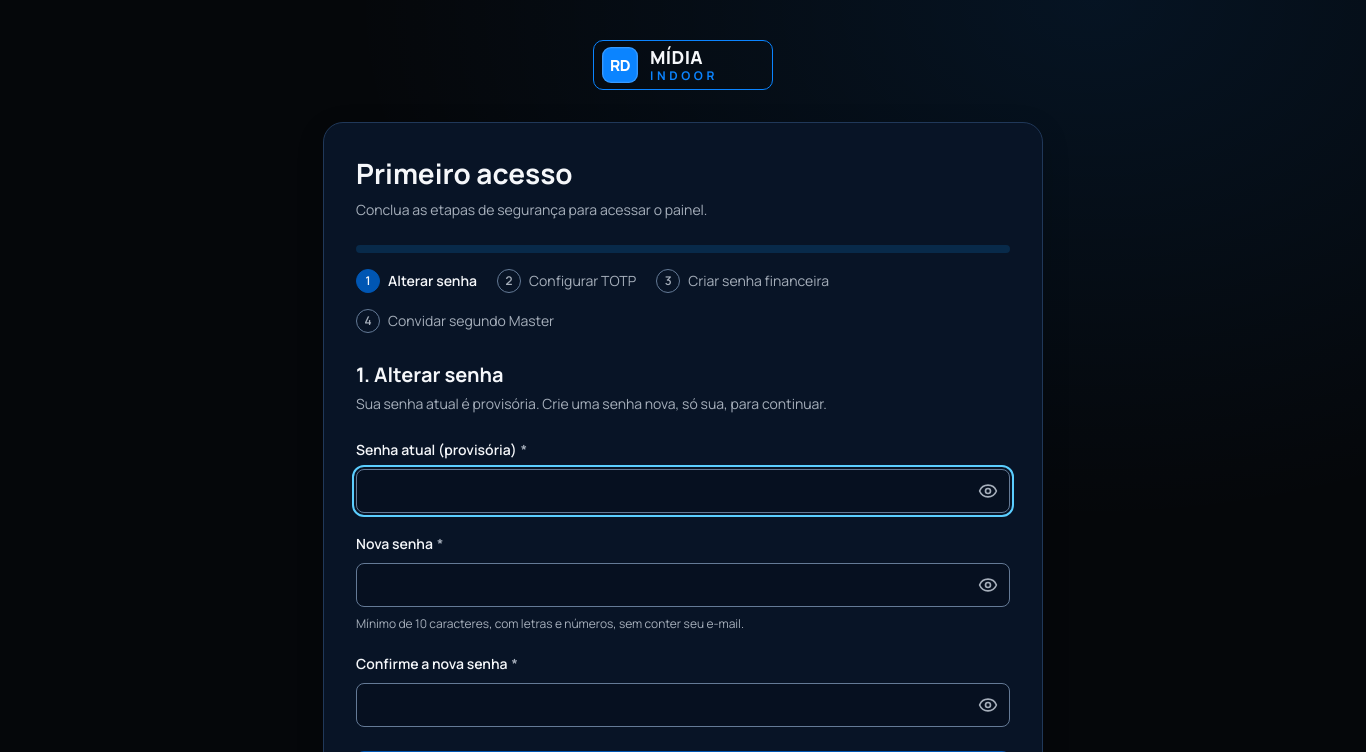
Test case: assistente de primeiro acesso › Master na DUPLA: mostra os 4 passos com progresso; só o passo atual aparece; senha → novo token de setup → TOTP
This screenshot has width=1366, height=752.
Check: the heading "Primeiro acesso" is shown, box [356,154,573,192]
Check: the heading "1. Alterar senha" is shown, box [356,361,504,388]
Type "Provisoria-123" into the password field labelled "Senha atual (provisória)*".
click(683, 491); type("Provisoria-123")  # box [356,469,1010,513]
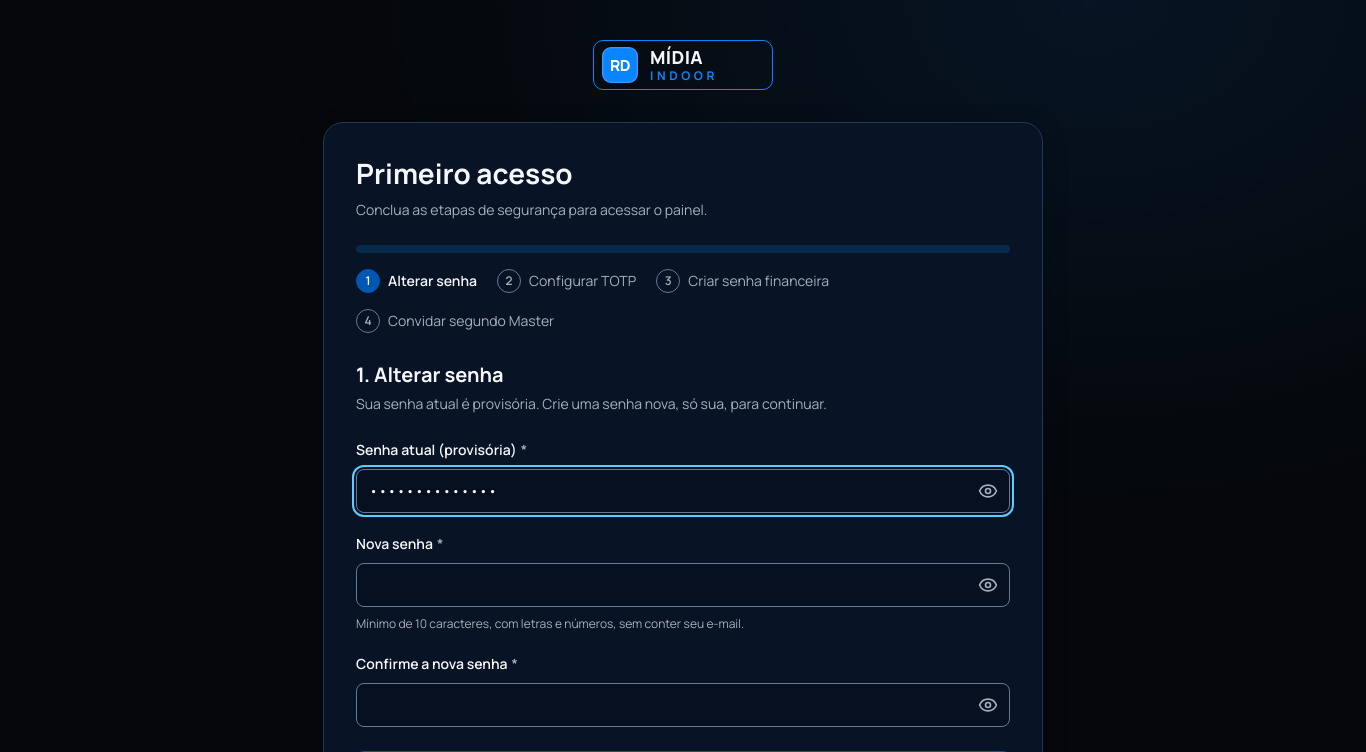
Type "Senha-nova-segura-2026" into the password field labelled "Nova senha*".
click(683, 585); type("Senha-nova-segura-2026")  # box [356,563,1010,607]
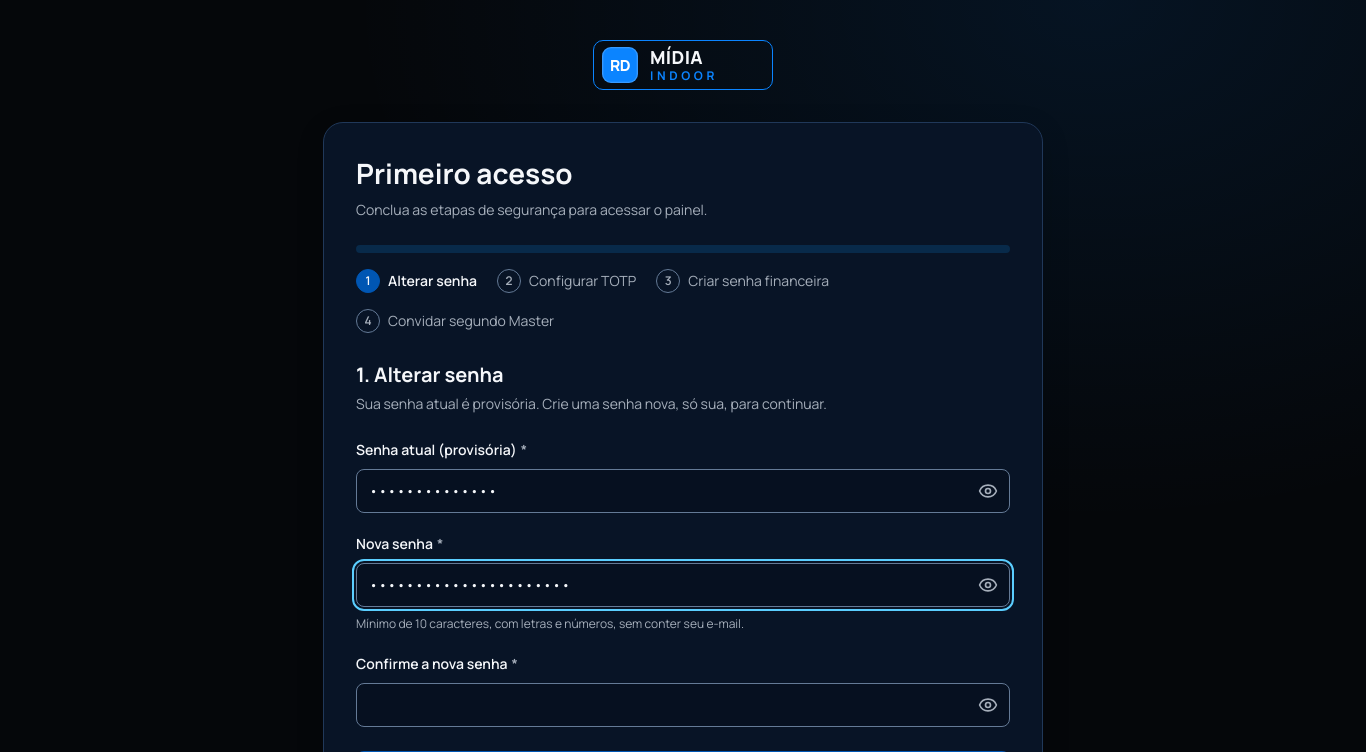
Type "Senha-nova-segura-2026" into the password field labelled "Confirme a nova senha*".
click(683, 705); type("Senha-nova-segura-2026")  # box [356,683,1010,727]
(page scrolled)
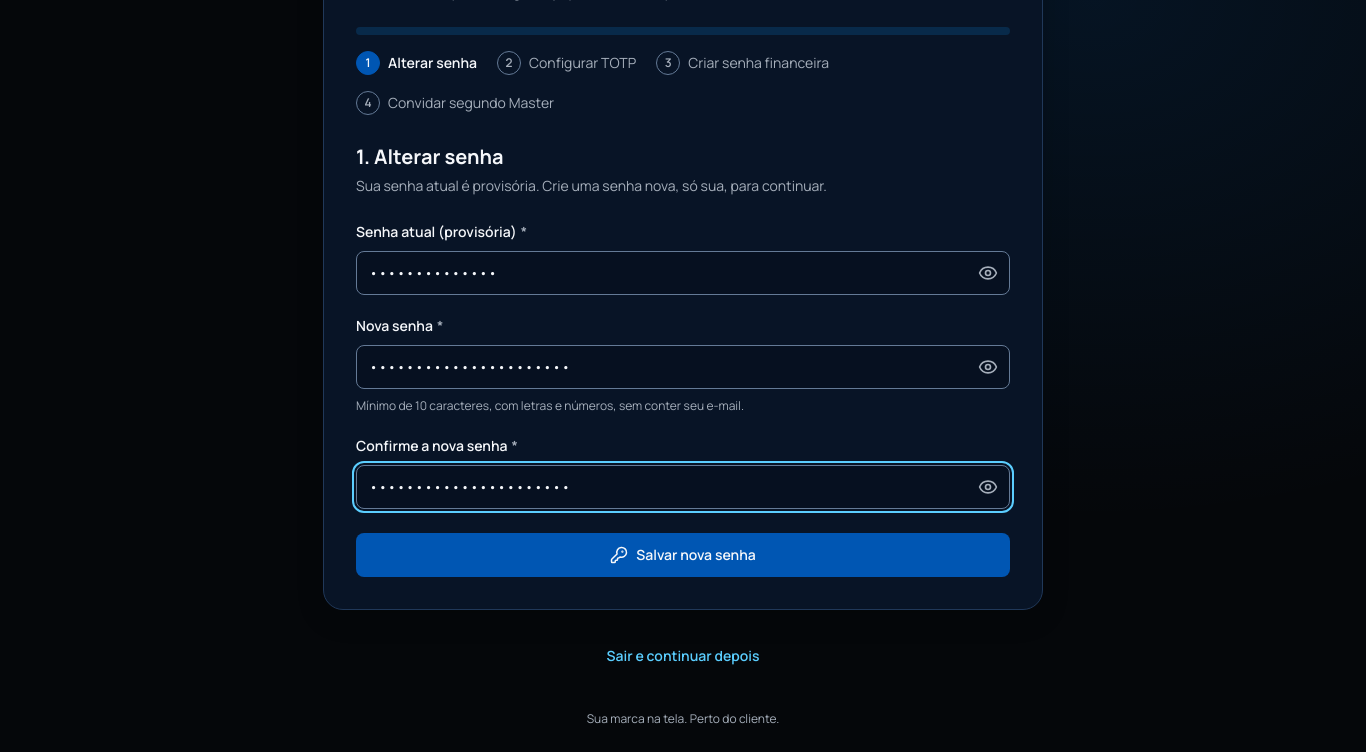
Click the button "Salvar nova senha".
click(683, 555)  # box [356,533,1010,577]
(page scrolled)
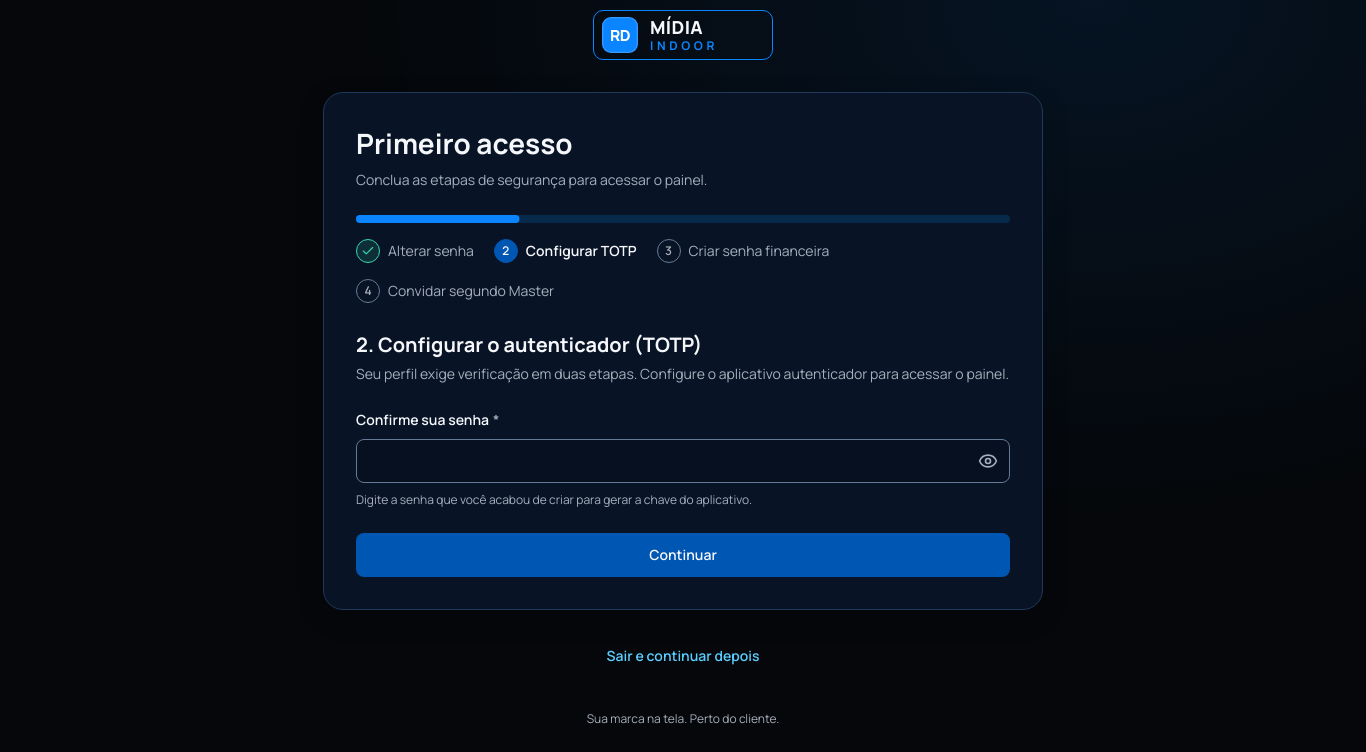
Check: the heading "2. Configurar o autenticador (TOTP)" is shown, box [356,331,702,358]
Check: the label labelled "Nova senha" is gone
